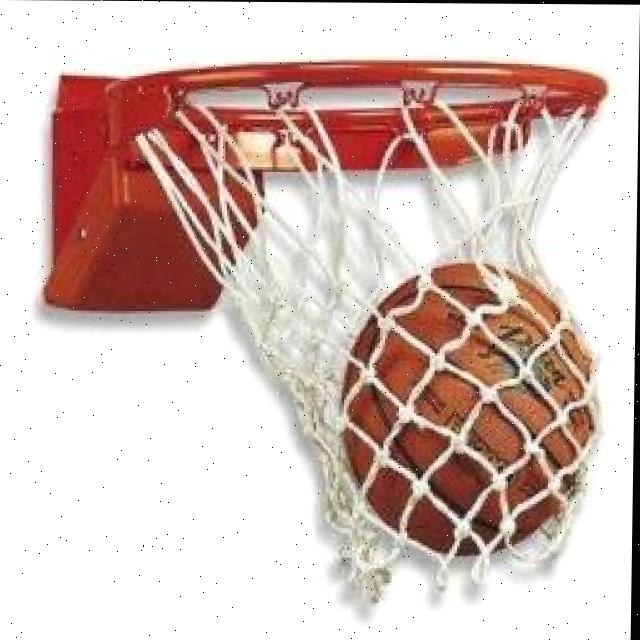basketball: (332, 255, 601, 562)
hoop: (111, 44, 624, 590), (111, 46, 624, 590)
